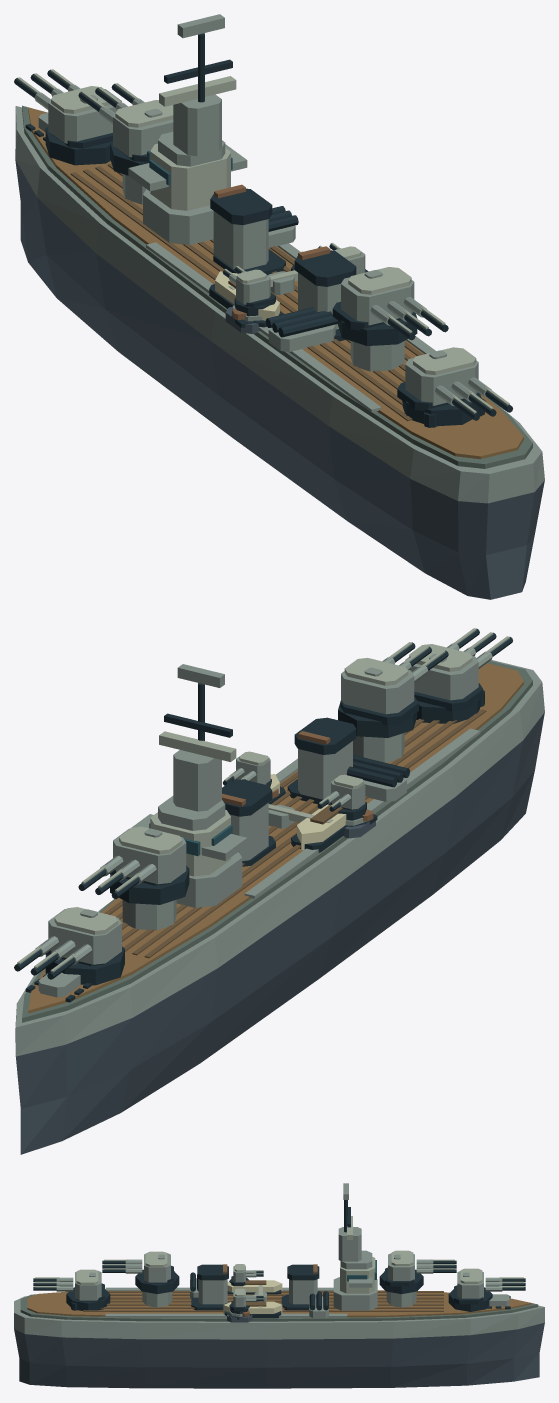
The model's file is historic-belfast.glb.
3 views of the same model, one above another, from view 1: azimuth 30°, elevation 25°; view 2: azimuth 150°, elevation 25°; view 3: azimuth 270°, elevation 25° (orthographic). The views are drawn at different scales.
Parts seen in each view (by area): view 1: historic-belfast-historic-belfast-geometry, historic-belfast-part_bridge.020-geometry, historic-belfast-turret_main_2.014-geometry, historic-belfast-turret_main_3.007-geometry, historic-belfast-turret_main_0.015-geometry, historic-belfast-historic_funnel_0.021-geometry, historic-belfast-turret_main_1.014-geometry, historic-belfast-historic_funnel_1.009-geometry, historic-belfast-torpedo_bank_0.002-geometry, historic-belfast-turret_aa_aa-port.022-geometry, historic-belfast-torpedo_bank_1.001-geometry; view 2: historic-belfast-historic-belfast-geometry, historic-belfast-part_bridge.020-geometry, historic-belfast-turret_main_2.014-geometry, historic-belfast-turret_main_1.014-geometry, historic-belfast-turret_main_0.015-geometry, historic-belfast-turret_main_3.007-geometry, historic-belfast-historic_funnel_1.009-geometry, historic-belfast-historic_funnel_0.021-geometry, historic-belfast-torpedo_bank_0.002-geometry, historic-belfast-turret_aa_aa-port.022-geometry, historic-belfast-turret_aa_aa-starboard.020-geometry, historic-belfast-historic_catapult_0.002-geometry; view 3: historic-belfast-historic-belfast-geometry, historic-belfast-part_bridge.020-geometry, historic-belfast-turret_main_1.014-geometry, historic-belfast-turret_main_2.014-geometry, historic-belfast-turret_main_0.015-geometry, historic-belfast-turret_main_3.007-geometry, historic-belfast-historic_funnel_1.009-geometry, historic-belfast-historic_funnel_0.021-geometry, historic-belfast-turret_aa_aa-starboard.020-geometry, historic-belfast-torpedo_bank_1.001-geometry, historic-belfast-turret_aa_aa-port.022-geometry.
Part boxes in pixels (left/top/right/bottom): historic-belfast-historic-belfast-geometry: left=15, top=105, right=544, bottom=599; historic-belfast-part_bridge.020-geometry: left=128, top=14, right=247, bottom=244; historic-belfast-turret_main_2.014-geometry: left=332, top=267, right=448, bottom=345; historic-belfast-turret_main_3.007-geometry: left=397, top=347, right=512, bottom=426; historic-belfast-turret_main_0.015-geometry: left=14, top=69, right=121, bottom=165; historic-belfast-historic_funnel_0.021-geometry: left=210, top=184, right=285, bottom=275; historic-belfast-turret_main_1.014-geometry: left=78, top=83, right=173, bottom=175; historic-belfast-historic_funnel_1.009-geometry: left=294, top=246, right=356, bottom=341; historic-belfast-torpedo_bank_0.002-geometry: left=265, top=307, right=337, bottom=351; historic-belfast-turret_aa_aa-port.022-geometry: left=222, top=266, right=275, bottom=316; historic-belfast-torpedo_bank_1.001-geometry: left=268, top=206, right=298, bottom=247; historic-belfast-historic-belfast-geometry: left=15, top=660, right=544, bottom=1154; historic-belfast-part_bridge.020-geometry: left=130, top=664, right=247, bottom=907; historic-belfast-turret_main_2.014-geometry: left=338, top=642, right=448, bottom=737; historic-belfast-turret_main_1.014-geometry: left=78, top=826, right=189, bottom=904; historic-belfast-turret_main_0.015-geometry: left=14, top=907, right=124, bottom=985; historic-belfast-turret_main_3.007-geometry: left=405, top=628, right=512, bottom=723; historic-belfast-historic_funnel_1.009-geometry: left=287, top=717, right=356, bottom=804; historic-belfast-historic_funnel_0.021-geometry: left=222, top=779, right=275, bottom=866; historic-belfast-torpedo_bank_0.002-geometry: left=346, top=755, right=409, bottom=801; historic-belfast-turret_aa_aa-port.022-geometry: left=317, top=774, right=366, bottom=820; historic-belfast-turret_aa_aa-starboard.020-geometry: left=223, top=751, right=271, bottom=786; historic-belfast-historic_catapult_0.002-geometry: left=268, top=804, right=332, bottom=828; historic-belfast-historic-belfast-geometry: left=14, top=1280, right=544, bottom=1388; historic-belfast-part_bridge.020-geometry: left=333, top=1183, right=377, bottom=1310; historic-belfast-turret_main_1.014-geometry: left=379, top=1250, right=456, bottom=1294; historic-belfast-turret_main_2.014-geometry: left=102, top=1251, right=179, bottom=1294; historic-belfast-turret_main_0.015-geometry: left=448, top=1268, right=525, bottom=1311; historic-belfast-turret_main_3.007-geometry: left=33, top=1269, right=110, bottom=1310; historic-belfast-historic_funnel_1.009-geometry: left=191, top=1264, right=228, bottom=1310; historic-belfast-historic_funnel_0.021-geometry: left=281, top=1264, right=319, bottom=1310; historic-belfast-turret_aa_aa-starboard.020-geometry: left=229, top=1288, right=263, bottom=1314; historic-belfast-torpedo_bank_1.001-geometry: left=309, top=1291, right=328, bottom=1317; historic-belfast-turret_aa_aa-port.022-geometry: left=229, top=1264, right=263, bottom=1286.
Bounding box in the file's own units: 0.69 × 1.69 × 4.32.
